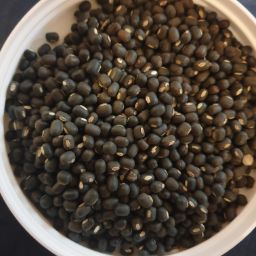Black Gram(urad daal): (50, 1, 256, 251), (17, 48, 256, 218), (100, 15, 256, 229), (77, 4, 196, 256)
